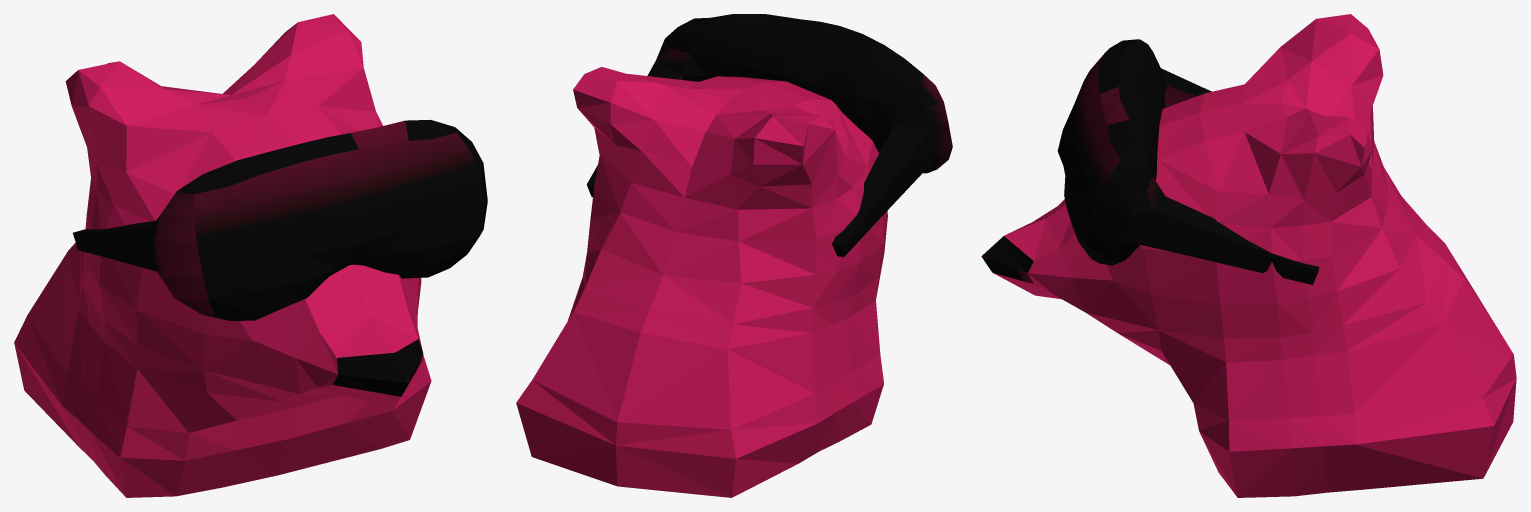
Rendered from Racoon.gltf.
3 views of the same model, side by side, from view 1: azimuth 30°, elevation 25°; view 2: azimuth 150°, elevation 25°; view 3: azimuth 270°, elevation 25° (orthographic). The views are drawn at different scales.
Visible parts, largest first — view 1: Racoon, VR; view 2: Racoon, VR; view 3: Racoon, VR.
Boxes of the visible parts, left/top/right/bottom form: Racoon: left=14, top=14, right=431, bottom=497; VR: left=73, top=119, right=487, bottom=321; Racoon: left=516, top=67, right=887, bottom=497; VR: left=586, top=14, right=952, bottom=257; Racoon: left=981, top=14, right=1516, bottom=497; VR: left=1057, top=39, right=1319, bottom=284.
Bounding box in the file's own units: 1.3 × 1.48 × 1.97.
1 material, 1 textured.
